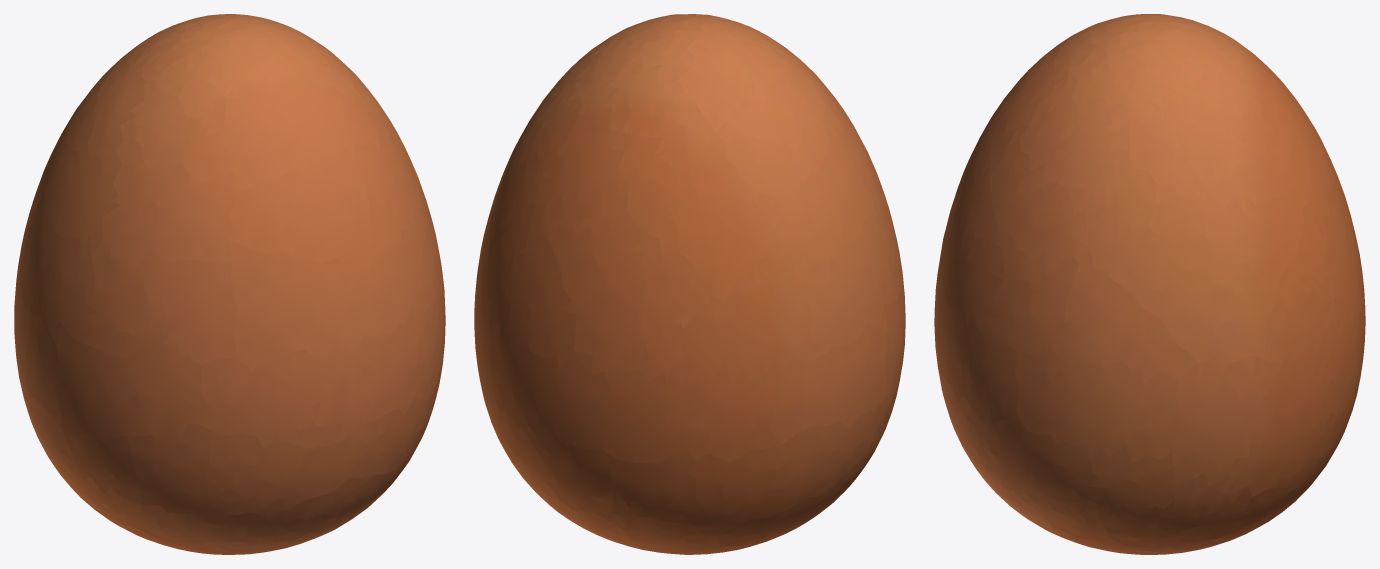
3 views of the same model, side by side, from view 1: azimuth 30°, elevation 25°; view 2: azimuth 150°, elevation 25°; view 3: azimuth 270°, elevation 25° (orthographic).
Parts seen in each view (by area): view 1: Mesh_0; view 2: Mesh_0; view 3: Mesh_0.
Boxes of the visible parts, x1,y1,x2,y2 form: Mesh_0: (14,14,445,554); Mesh_0: (474,14,905,554); Mesh_0: (934,14,1365,554).
Bounding box in the file's own units: 1.47 × 1.9 × 1.47.
Materials: 1 (1 with a texture image).
